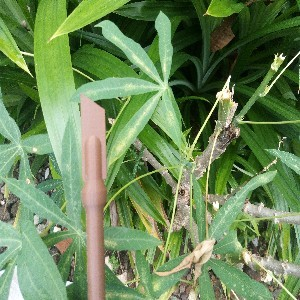cutter: (80, 93, 107, 300)
